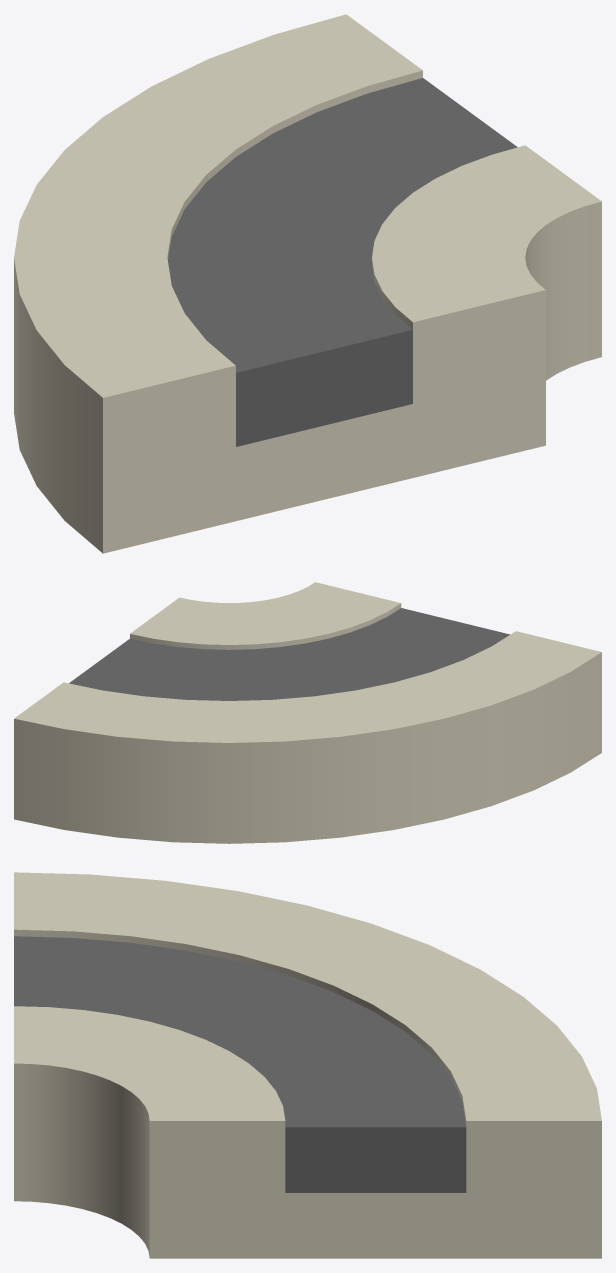
The model's file is tile172.dae.
3 renders of one model, top to bottom at view 1: azimuth 30°, elevation 25°; view 2: azimuth 150°, elevation 25°; view 3: azimuth 270°, elevation 25°, orthographic. The views are drawn at different scales.
Parts seen in each view (by area): view 1: tile172; view 2: tile172; view 3: tile172.
Boxes of the visible parts, x1=… form: tile172: x1=14, y1=14, x2=601, y2=553; tile172: x1=14, y1=582, x2=601, y2=843; tile172: x1=14, y1=872, x2=601, y2=1258.
Bounding box in the file's own units: 0.8125 × 0.21 × 0.8125.
